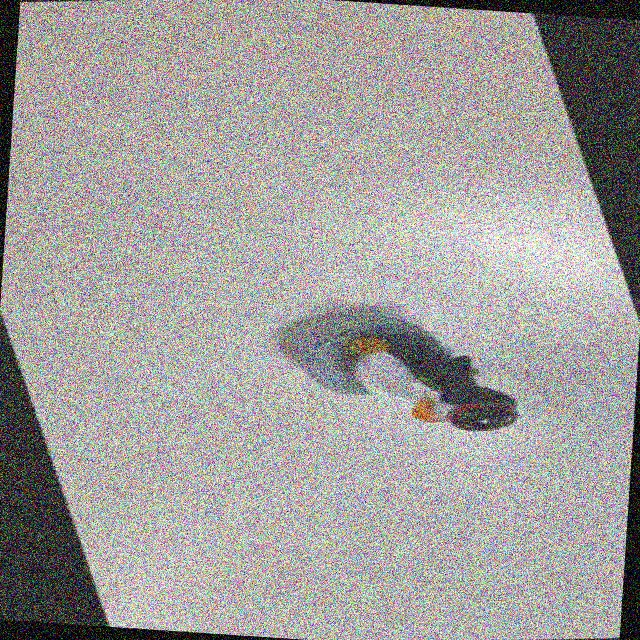Penguin: (255, 299, 541, 450)
